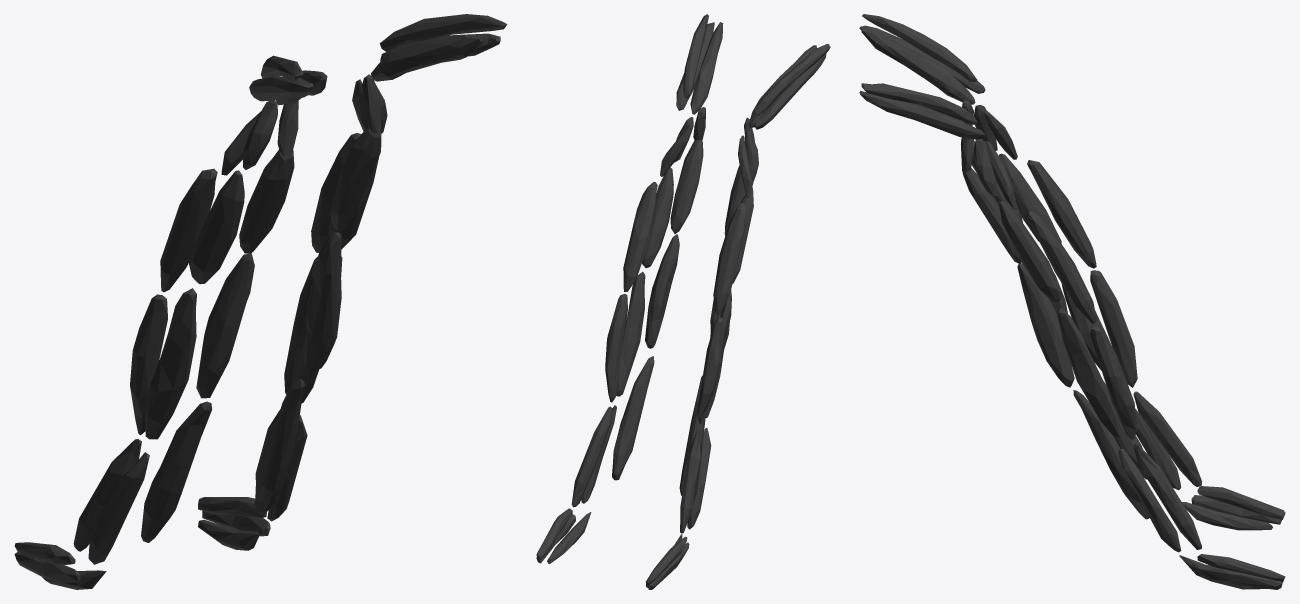
File: m_intertransverse.glb
3 renders of one model, left to right at view 1: azimuth 30°, elevation 25°; view 2: azimuth 150°, elevation 25°; view 3: azimuth 270°, elevation 25°, orthographic. The views are drawn at different scales.
Parts seen in each view (by area): view 1: m_intertransverse; view 2: m_intertransverse; view 3: m_intertransverse.
Boxes of the visible parts, left/top/right/bottom form: m_intertransverse: left=14, top=14, right=507, bottom=589; m_intertransverse: left=536, top=14, right=830, bottom=589; m_intertransverse: left=859, top=14, right=1285, bottom=589.
Size of the model in its own units: 0.00206 by 0.00658 by 0.00499.
1 material, 1 textured.
